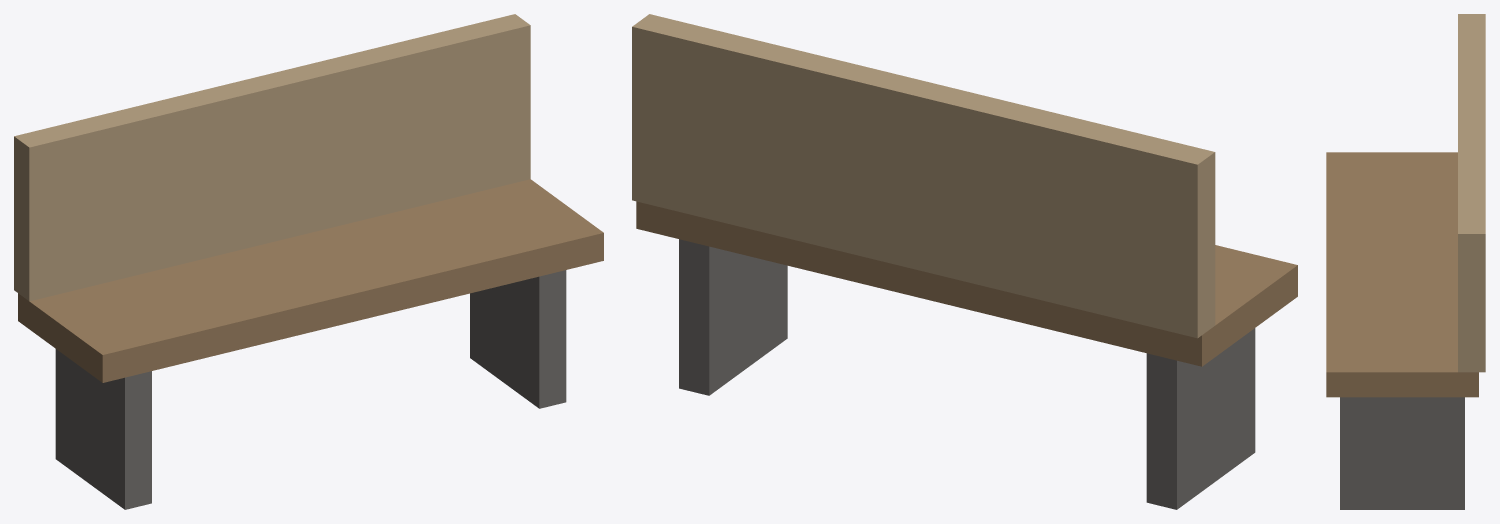
The model's file is env_furn_bench.glb.
The picture shows the model from 3 angles, left to right: view 1: azimuth 30°, elevation 25°; view 2: azimuth 150°, elevation 25°; view 3: azimuth 270°, elevation 25°; orthographic projection. The views are drawn at different scales.
Visible parts, largest first — view 1: env_furn_bench; view 2: env_furn_bench; view 3: env_furn_bench.
Part boxes in pixels (x1,y1,x2,y2): env_furn_bench: [14, 14, 603, 509]; env_furn_bench: [632, 14, 1297, 509]; env_furn_bench: [1326, 14, 1485, 509].
Size of the model in its own units: 1.5 by 0.92 by 0.46.
